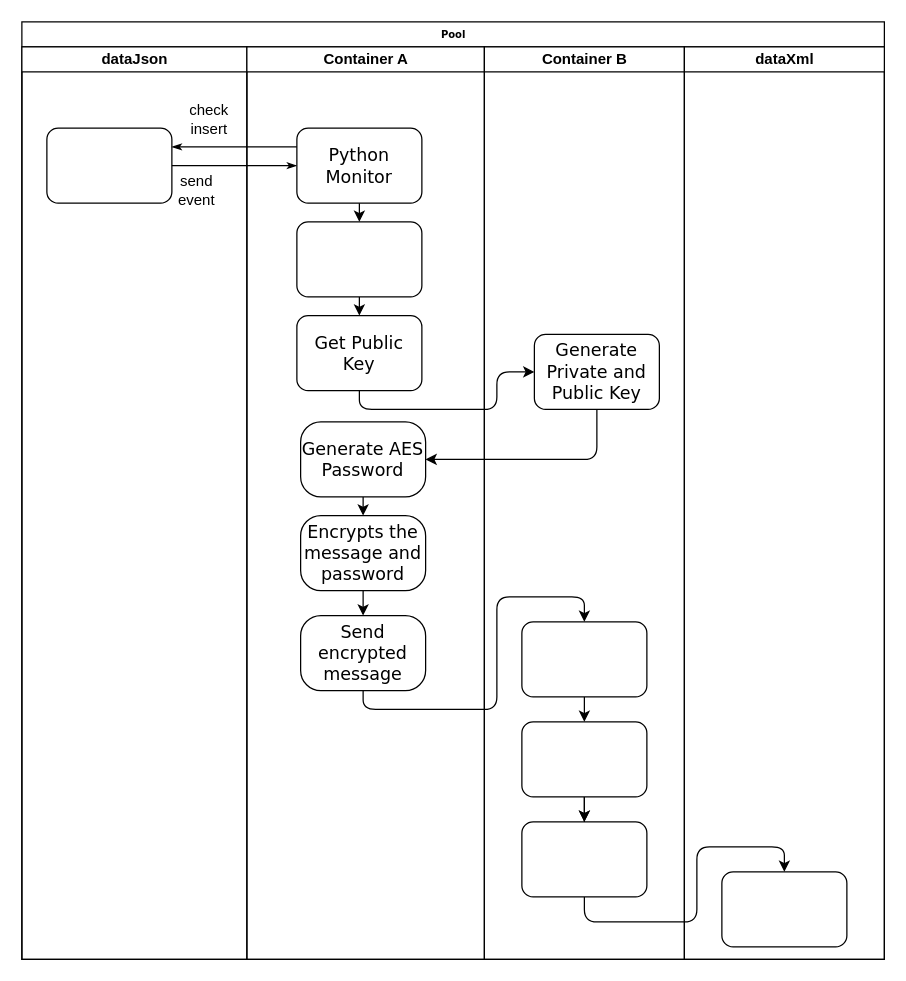
Some shapes in this 906 by 981 pixel diagram are drawn without their labels. Each missing label, with the centre of its shape:
.json file: [109,165]
.xml file: [784,909]
Convert json to xml: [359,259]
Decrypts message: [584,759]
Receive encrypted message: [584,659]
Saves on folder: [584,859]
